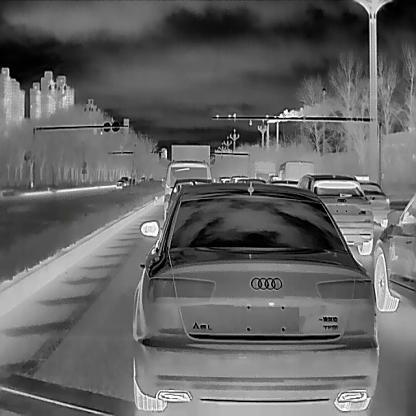car: (131, 183, 379, 411), (294, 173, 373, 254), (373, 194, 415, 311), (165, 160, 212, 220), (352, 173, 389, 228), (279, 159, 313, 195), (249, 158, 276, 192)
